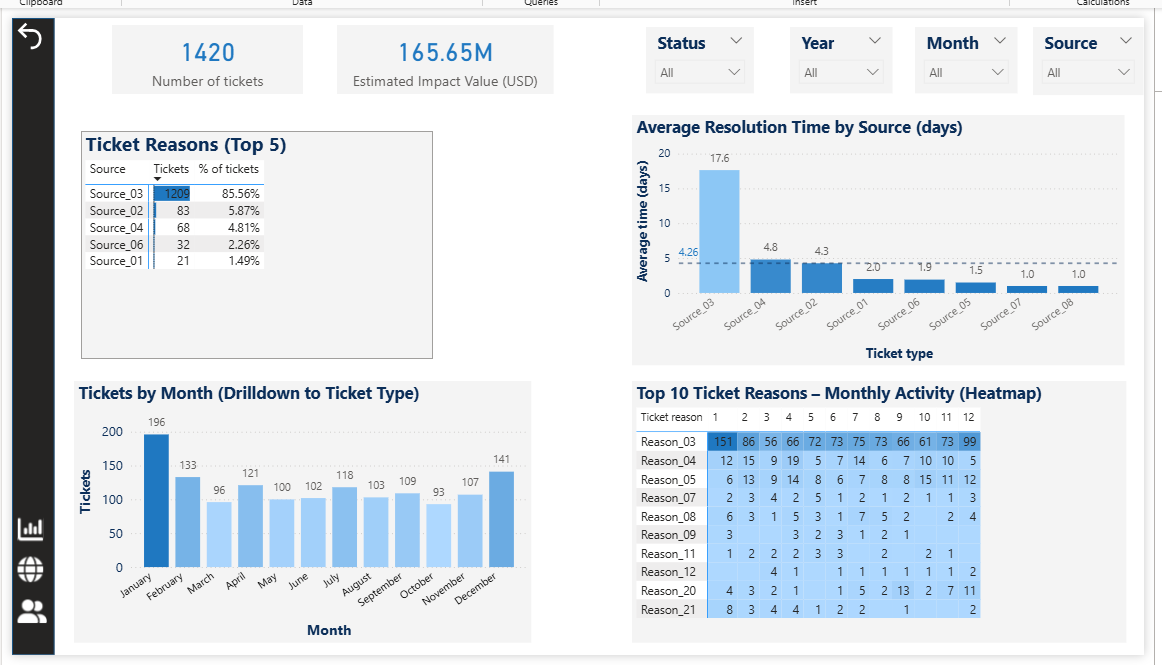

This screenshot's page, from the dashboard's own definition file:
{"tool":"powerbi","page":{"name":"Sources","canvas":[1280,720],"ordinal":1},"visuals":[{"type":"shape","box":[0,0,48.1,720.4],"z":0},{"type":"actionButton","box":[2.8,559.2,41.3,37.1],"z":0,"group":"g1"},{"type":"card","fields":{"Values":["Measures_table.Number of tickets"]},"box":[113.1,7.7,216.3,77.9],"z":1000},{"type":"actionButton","box":[2.8,604.1,41.3,37.1],"z":1000,"group":"g1"},{"type":"clusteredColumnChart","title":"Average Resolution Time by Source (days)","fields":{"Y":["Measures_table.Number of tickets average per Days of ticket closure_"],"Category":["Ticket log.Ticket type"]},"box":[701.5,109.8,556.6,283.2],"z":2000},{"type":"actionButton","box":[3.3,649.9,41.3,42.2],"z":2000,"group":"g1"},{"type":"clusteredColumnChart","title":"Tickets by Month (Drilldown to Ticket Type)","fields":{"Category":["Ticket log.Date Issue raised to Action Owner(dd/mm/yyyy).Variation.Date Hierarchy.Year","Ticket log.Date Issue raised to Action Owner(dd/mm/yyyy).Variation.Date Hierarchy.Quarter","Ticket log.Date Issue raised to Action Owner(dd/mm/yyyy).Variation.Date Hierarchy.Month","Ticket log.Date Issue raised to Action Owner(dd/mm/yyyy).Variation.Date Hierarchy.Day","Ticket log.Ticket type"],"Y":["Measures_table.Number of tickets"]},"box":[70.3,410.6,517,296.4],"z":3000},{"type":"group","id":"g1","title":"Navigation buttons","box":[2.8,559.2,42.2,133.1],"z":4000},{"type":"actionButton","box":[0,0,48.7,40.4],"z":5000},{"type":"pivotTable","title":"Top 10 Ticket Reasons – Monthly Activity (Heatmap)","fields":{"Columns":["Ticket log.Month"],"Rows":["Ticket log.Ticket reason"],"Values":["Measures_table.Number of tickets"]},"box":[701.5,410.6,558.8,296.4],"z":6000},{"type":"card","fields":{"Values":["Sum(Ticket log.Absolute value in USD (estimated))"]},"box":[367.8,7.7,244.8,77.9],"z":7000},{"type":"slicer","fields":{"Values":["Ticket log.Year"]},"box":[879.2,10.2,116.3,75.5],"z":8000},{"type":"slicer","fields":{"Values":["Ticket log.STATUS "]},"box":[717,10.2,122.4,75.5],"z":9000},{"type":"slicer","fields":{"Values":["Ticket log.Month"]},"box":[1020.9,10.2,116.3,75.5],"z":10000},{"type":"slicer","fields":{"Values":["Ticket log.Ticket type"]},"box":[1154.6,9.9,125.4,77],"z":11000},{"type":"pivotTable","title":"Ticket Reasons (Top 5)","fields":{"Rows":["Ticket log.Ticket type"],"Values":["Measures_table.Number of tickets","Measures_table.Pct of Tickets (In Current Filters)"]},"box":[78.2,128.1,398.4,257.3],"z":12000}]}

Visuals, with their boxes on the page's 1280x720 design canvas (x1, y1, x2, y2). These are canvas units, not pixel positions in the 1162x665 screenshot, which may show the page scaled, cropped or inside an application window:
shape: {"left": 0, "top": 0, "right": 48, "bottom": 720}
actionButton: {"left": 3, "top": 559, "right": 44, "bottom": 596}
card - Measures_table.Number of tickets: {"left": 113, "top": 8, "right": 329, "bottom": 86}
actionButton: {"left": 3, "top": 604, "right": 44, "bottom": 641}
"Average Resolution Time by Source (days)" clusteredColumnChart: {"left": 702, "top": 110, "right": 1258, "bottom": 393}
actionButton: {"left": 3, "top": 650, "right": 45, "bottom": 692}
"Tickets by Month (Drilldown to Ticket Type)" clusteredColumnChart: {"left": 70, "top": 411, "right": 587, "bottom": 707}
"Navigation buttons" group: {"left": 3, "top": 559, "right": 45, "bottom": 692}
actionButton: {"left": 0, "top": 0, "right": 49, "bottom": 40}
"Top 10 Ticket Reasons – Monthly Activity (Heatmap)" pivotTable: {"left": 702, "top": 411, "right": 1260, "bottom": 707}
card - Sum(Ticket log.Absolute value in USD (estimated)): {"left": 368, "top": 8, "right": 613, "bottom": 86}
slicer - Ticket log.Year: {"left": 879, "top": 10, "right": 996, "bottom": 86}
slicer - Ticket log.STATUS : {"left": 717, "top": 10, "right": 839, "bottom": 86}
slicer - Ticket log.Month: {"left": 1021, "top": 10, "right": 1137, "bottom": 86}
slicer - Ticket log.Ticket type: {"left": 1155, "top": 10, "right": 1280, "bottom": 87}
"Ticket Reasons (Top 5)" pivotTable: {"left": 78, "top": 128, "right": 477, "bottom": 385}
